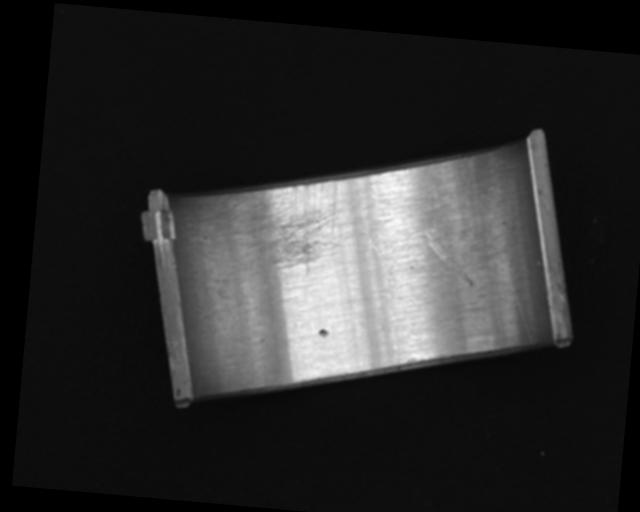bruise: (317, 327, 330, 338)
nick: (354, 236, 410, 367), (487, 248, 540, 347), (422, 235, 478, 287), (422, 176, 441, 239)
scratch: (214, 171, 350, 278)
